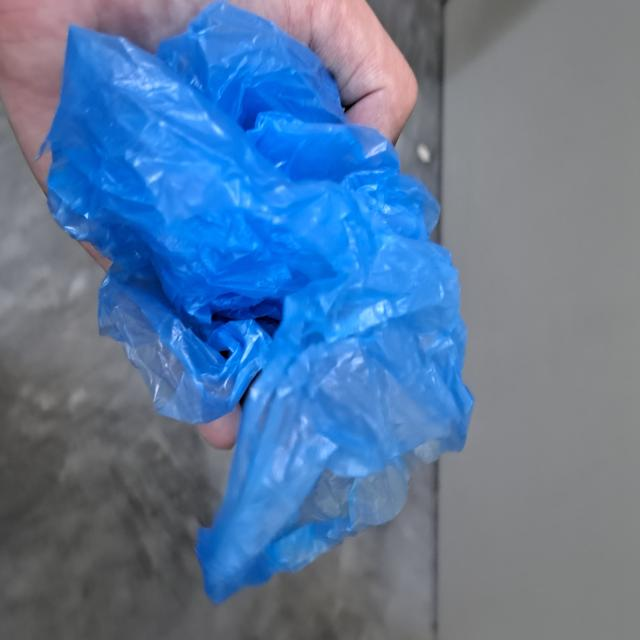plastic bag: (49, 8, 474, 599)
